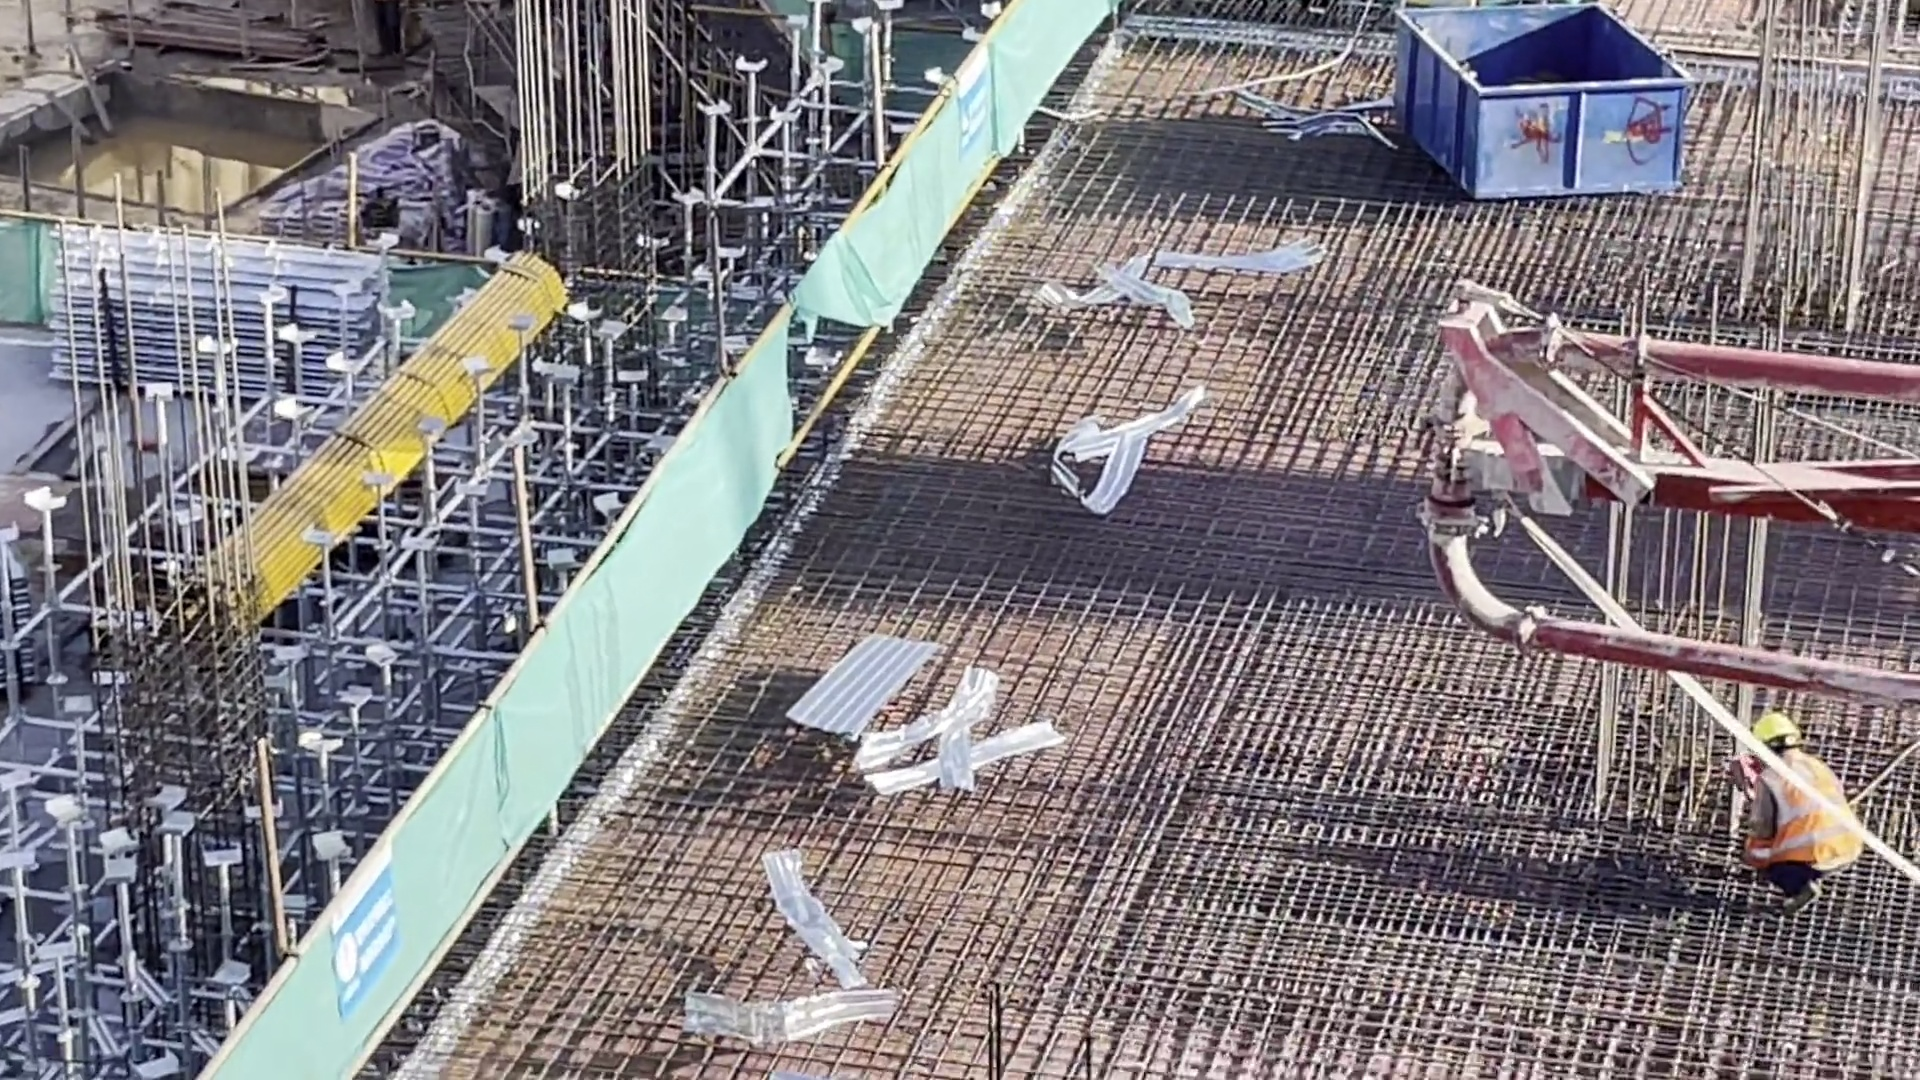helmet: (1753, 711, 1801, 744)
hopper: (1381, 1, 1677, 196)
person: (1736, 709, 1872, 893)
scaffold: (61, 277, 355, 387)
slogan: (334, 880, 396, 1003), (957, 77, 989, 145)
vest: (1748, 763, 1849, 861)
